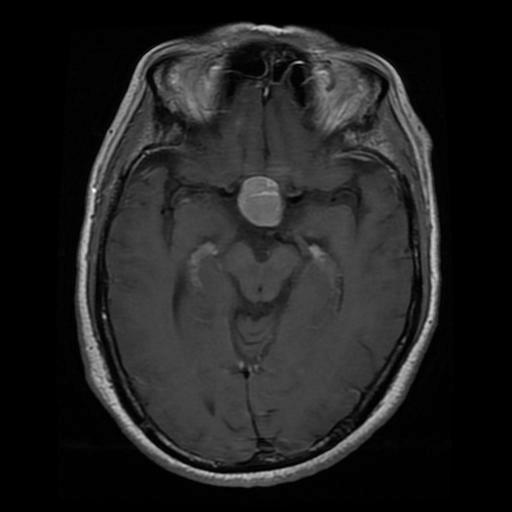Tumour-Pituitary: (236, 176, 283, 233)
